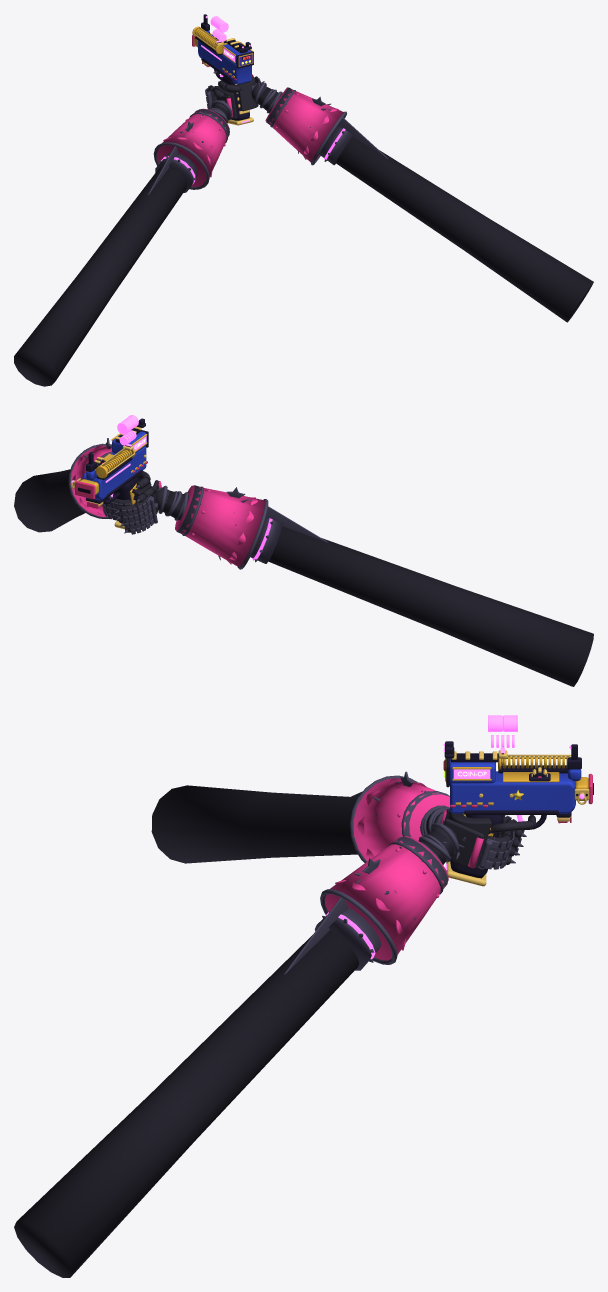
The model's file is coin_op.glb.
3 views of the same model, one above another, from view 1: azimuth 30°, elevation 25°; view 2: azimuth 150°, elevation 25°; view 3: azimuth 270°, elevation 25° (orthographic). The views are drawn at different scales.
Visible parts, largest first — view 1: ArmR, ArmL, ArmRKitBell, ArmLKitBell, Shell; view 2: ArmL, ArmLKitBell, ArmR, Shell, ArmRKitBell, ArmLKitGauntlet, ArmLKitFins, ArmLKitWraps; view 3: ArmR, ArmL, Shell, ArmRKitBell, ArmLKitBell, ArmRKitMitten, ArmRKitGauntlet, ArmRKitFins.
Part boxes in pixels (x1,y1,x2,y2): ArmR: (216,71,593,322); ArmL: (14,85,237,386); ArmRKitBell: (265,87,346,165); ArmLKitBell: (153,108,229,189); Shell: (192,26,253,125); ArmL: (117,482,593,686); ArmLKitBell: (175,485,268,569); ArmR: (14,469,150,532); Shell: (71,426,148,529); ArmRKitBell: (68,438,112,518); ArmLKitGauntlet: (122,485,210,535); ArmLKitFins: (154,499,328,542); ArmLKitWraps: (150,485,188,523); ArmR: (14,810,535,1277); ArmL: (151,785,522,864); Shell: (444,750,593,886); ArmRKitBell: (320,836,448,964); ArmLKitBell: (350,771,449,862); ArmRKitMitten: (444,819,483,869); ArmRKitGauntlet: (395,819,514,897); ArmRKitFins: (284,844,464,974).
Bounding box in the file's own units: 2.24 × 1.01 × 1.33.
